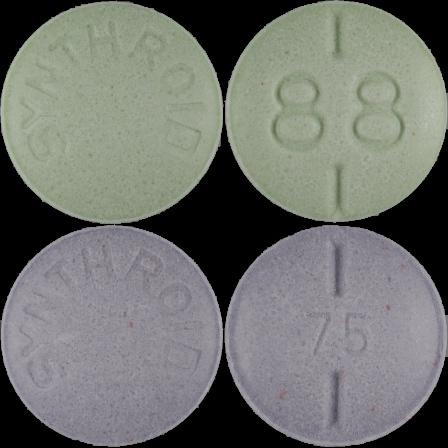68258-5972: (0, 0, 224, 224)
